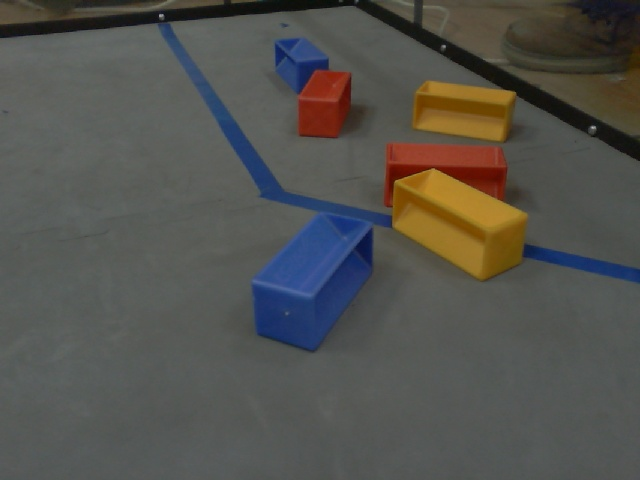BlueSample: (249, 209, 376, 353), (271, 37, 332, 94)
RedSample: (378, 139, 514, 206), (295, 67, 353, 141)
YellowSample: (388, 163, 528, 281), (409, 78, 517, 145)
